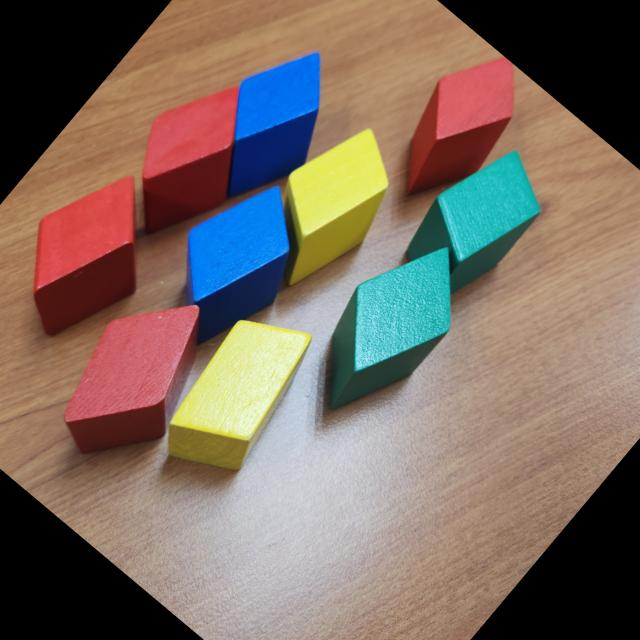blue: (136, 160, 334, 366), (177, 26, 366, 224)
green: (284, 218, 490, 437), (390, 128, 562, 308)
red: (32, 268, 243, 488), (0, 147, 192, 364), (93, 56, 288, 260), (367, 34, 544, 221)
yellow: (142, 293, 336, 497), (231, 106, 423, 306)
